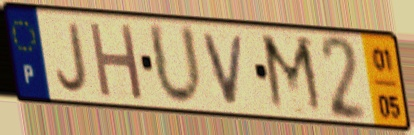2: (318, 30, 370, 125)
H: (86, 19, 147, 103)
J: (54, 20, 90, 96)
M: (258, 30, 328, 119)
U: (145, 19, 207, 111)
V: (200, 31, 248, 108)
